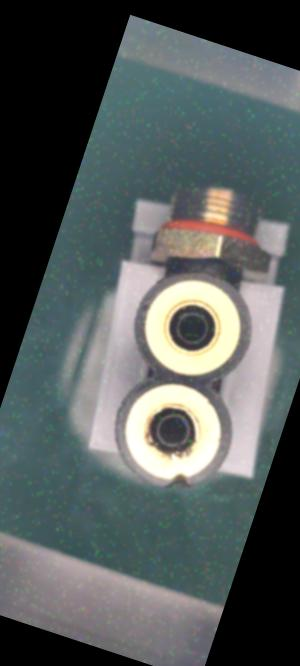bump: (162, 463, 200, 499)
craze: (197, 257, 213, 273)
